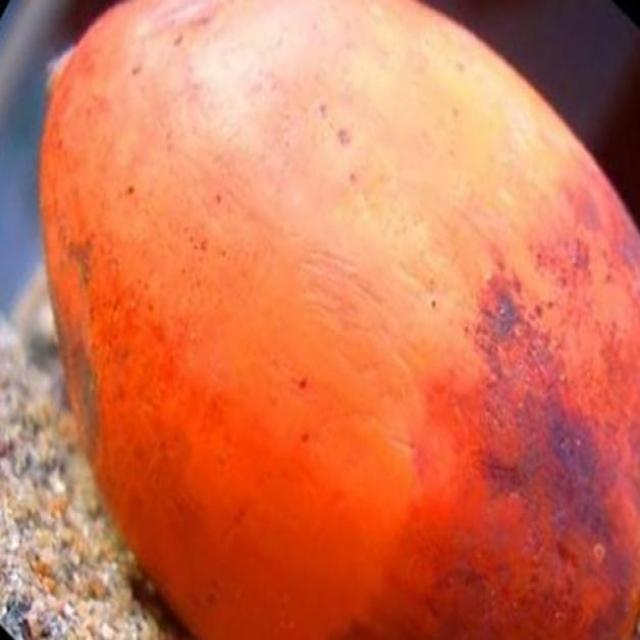good: (34, 0, 639, 639)
